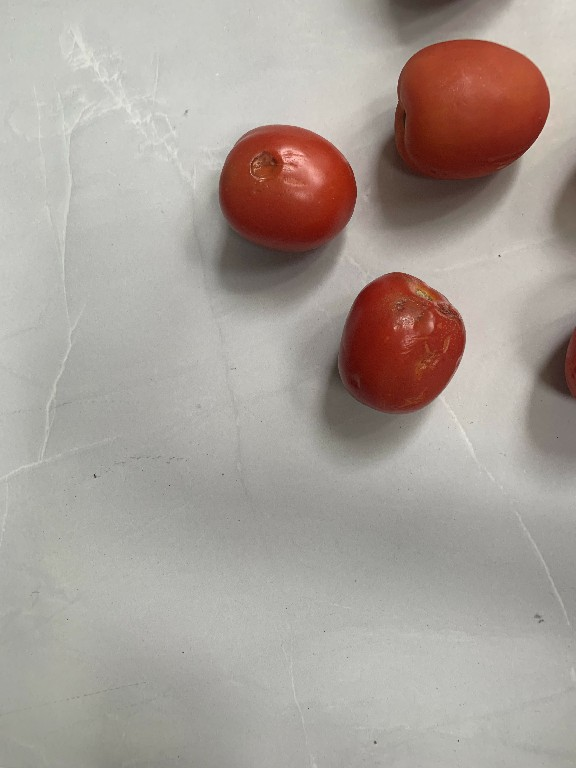NG: (334, 262, 468, 430), (211, 119, 358, 250)
OK: (383, 36, 554, 186)
